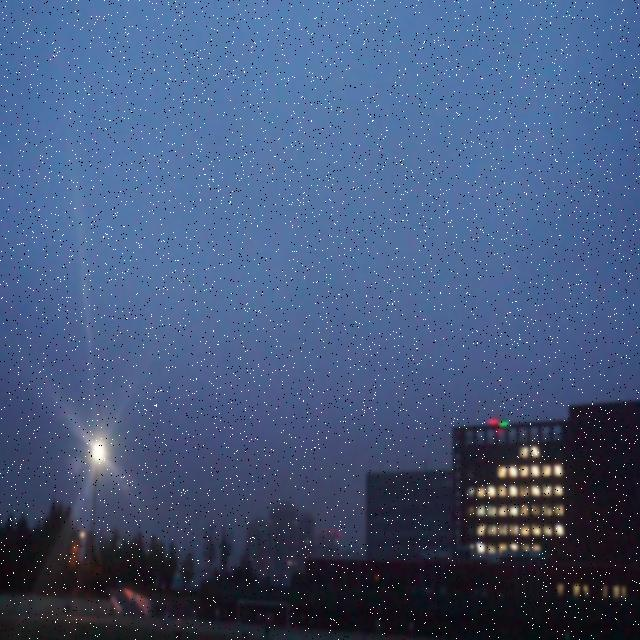UAV: (488, 419, 509, 436)
